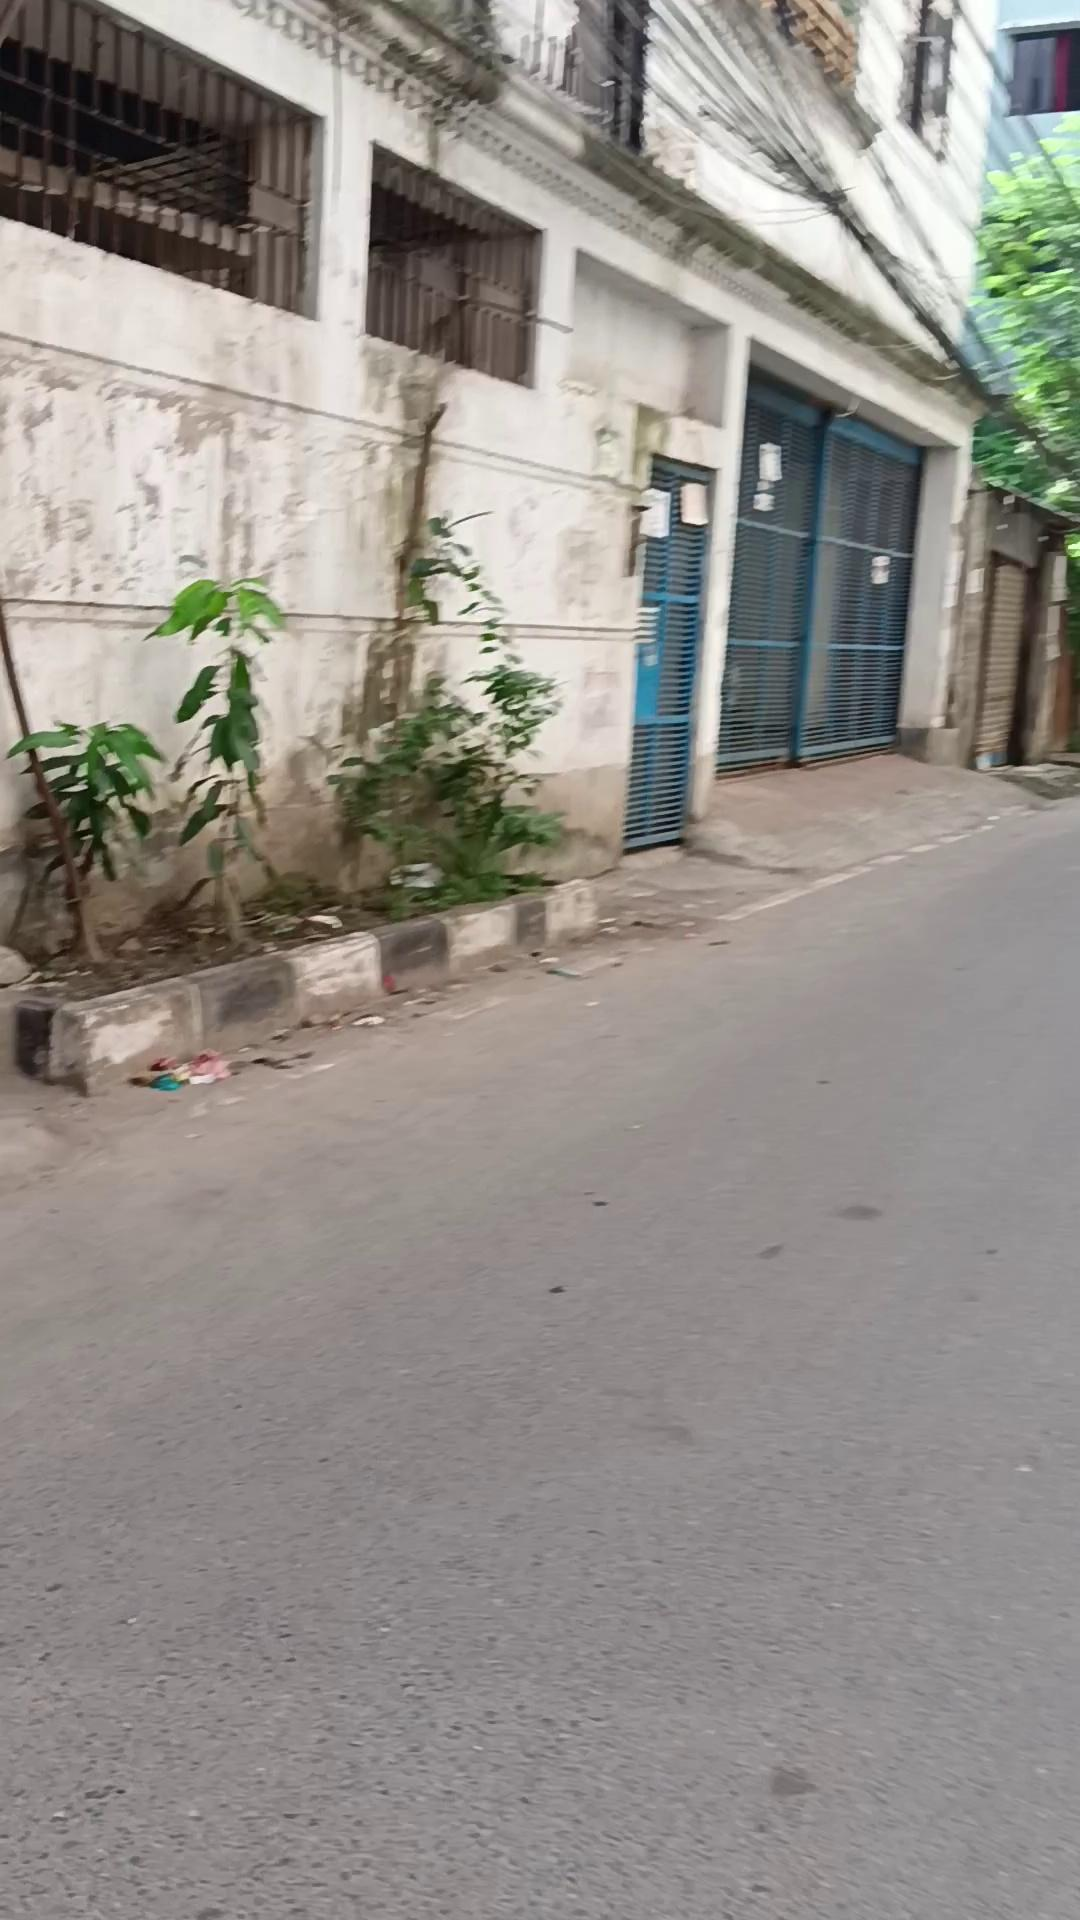Broken-road: (12, 872, 599, 1093)
Fallen-tree: (0, 422, 585, 1009)
Obstacle: (0, 214, 663, 981)
